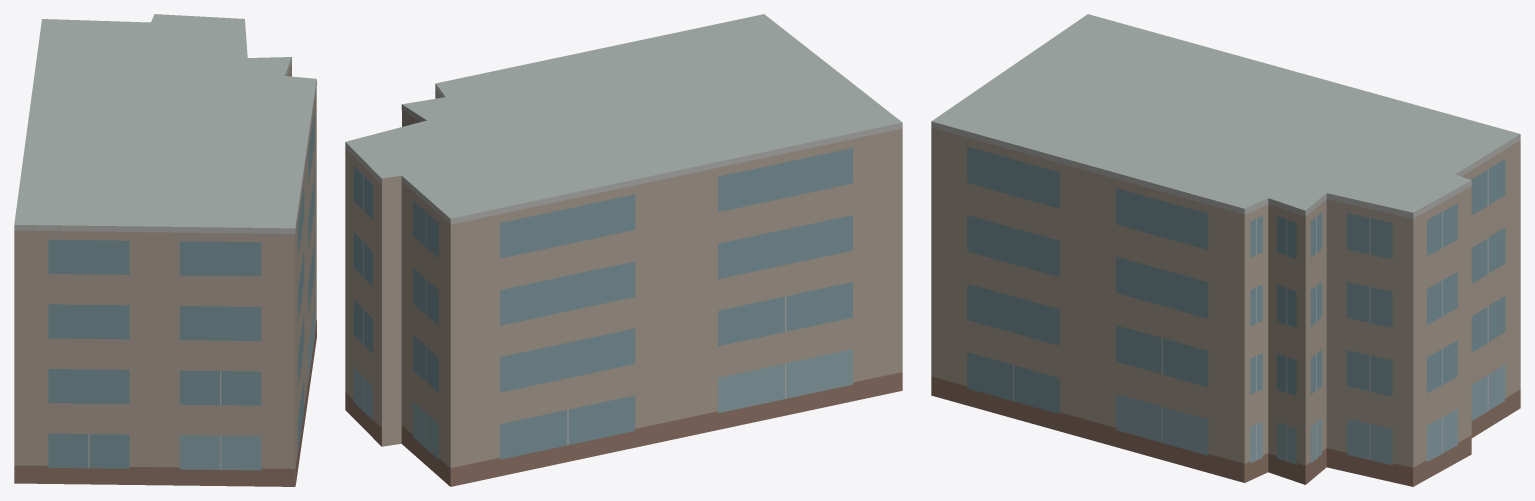
The model's file is survey-upis-32469245.glb.
3 views of the same model, side by side, from view 1: azimuth 30°, elevation 25°; view 2: azimuth 150°, elevation 25°; view 3: azimuth 270°, elevation 25° (orthographic). The views are drawn at different scales.
Parts seen in each view (by area): view 1: survey-upis-32469245.tmp; view 2: survey-upis-32469245.tmp; view 3: survey-upis-32469245.tmp.
Boxes of the visible parts, x1,y1,x2,y2 form: survey-upis-32469245.tmp: [14, 14, 316, 486]; survey-upis-32469245.tmp: [345, 14, 902, 486]; survey-upis-32469245.tmp: [931, 14, 1520, 486].
Bounding box in the file's own units: 17.25 × 11.09 × 21.62.
